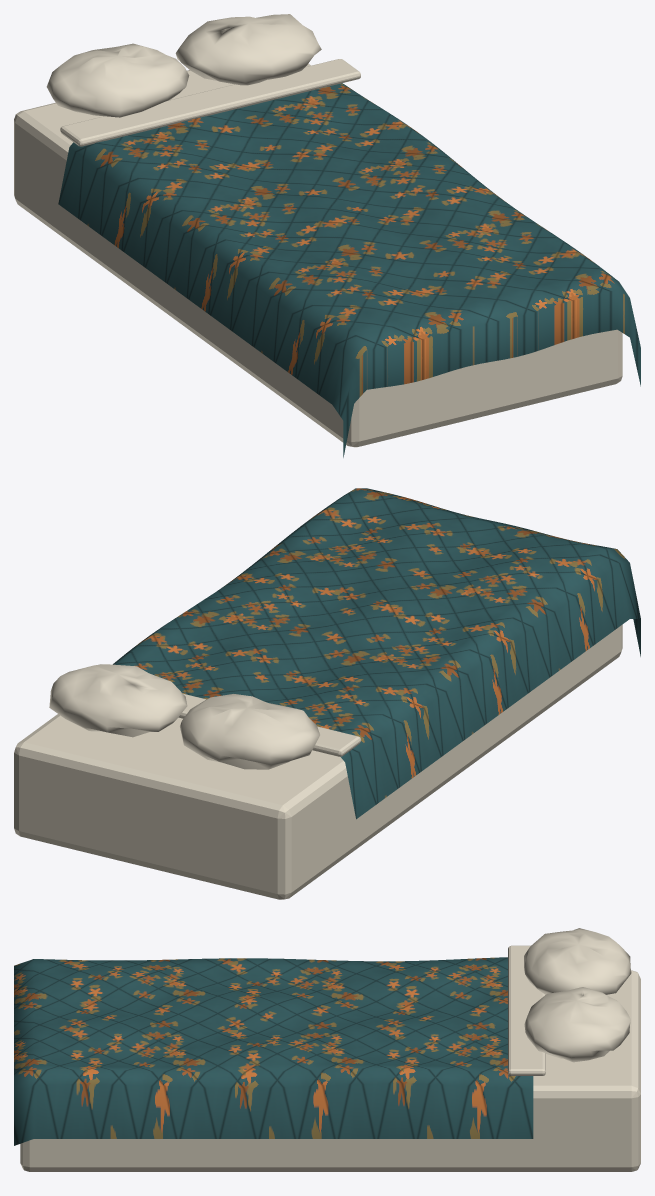
The model's file is bed_bedding_teal.glb.
The picture shows the model from 3 angles, top to bottom: view 1: azimuth 30°, elevation 25°; view 2: azimuth 150°, elevation 25°; view 3: azimuth 270°, elevation 25°; orthographic projection. The views are drawn at different scales.
Parts seen in each view (by area): view 1: bed_bedding_teal; view 2: bed_bedding_teal; view 3: bed_bedding_teal.
Part boxes in pixels (box(x1,y1,x2,y2)): bed_bedding_teal: box(14, 14, 640, 457); bed_bedding_teal: box(14, 488, 640, 899); bed_bedding_teal: box(14, 928, 640, 1171).
Bounding box in the file's own units: 0.99 × 0.5023 × 1.98.
2 materials, 1 textured.
